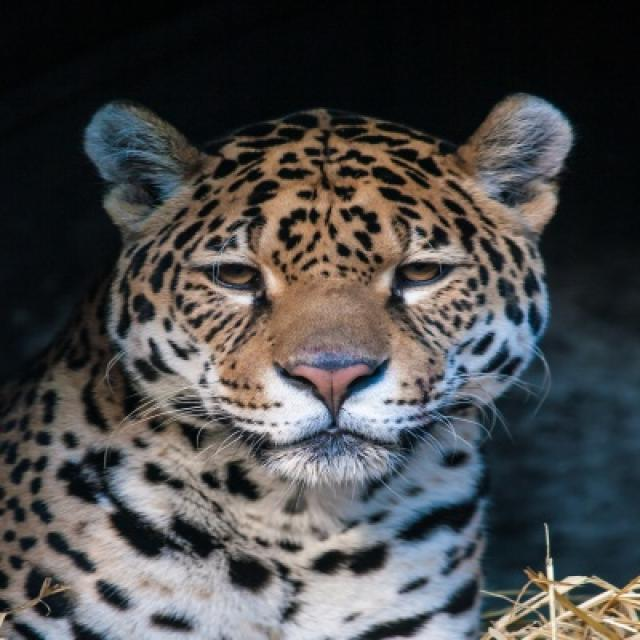Jaguar: (0, 93, 576, 638)
